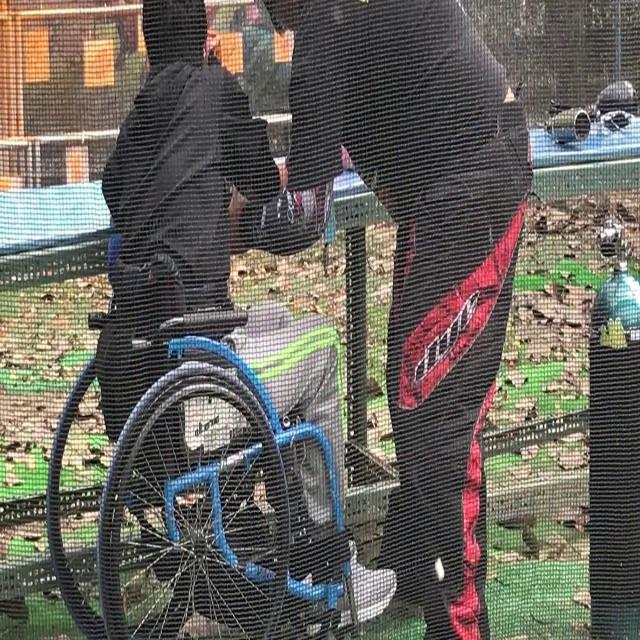wheelchairs: (46, 287, 377, 640)
